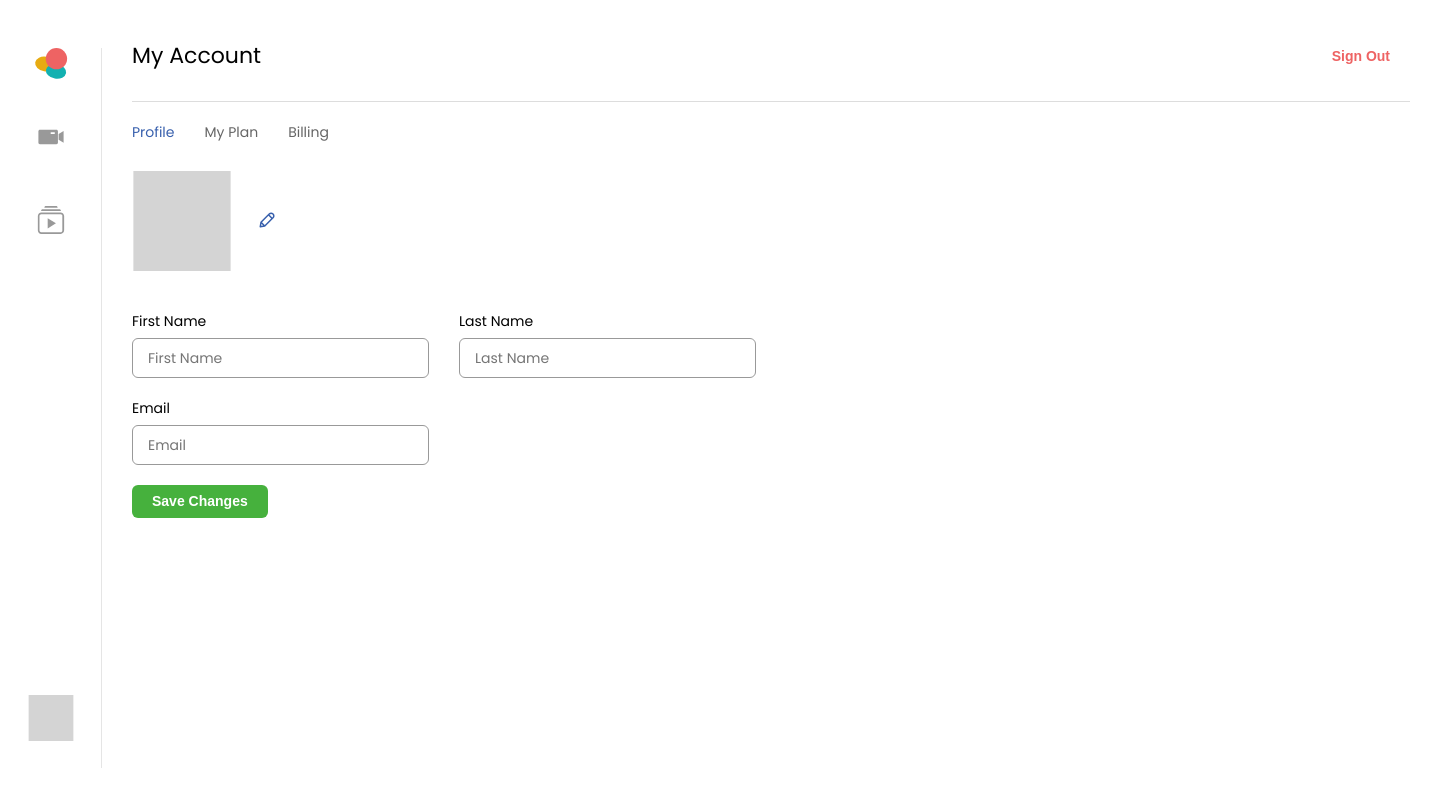
My Account › Desktop › User should be able to visit My plan
This screenshot has width=1440, height=800.
Step 1. Click the text "My Plan" → (232, 132), box 205,122 -> 259,142
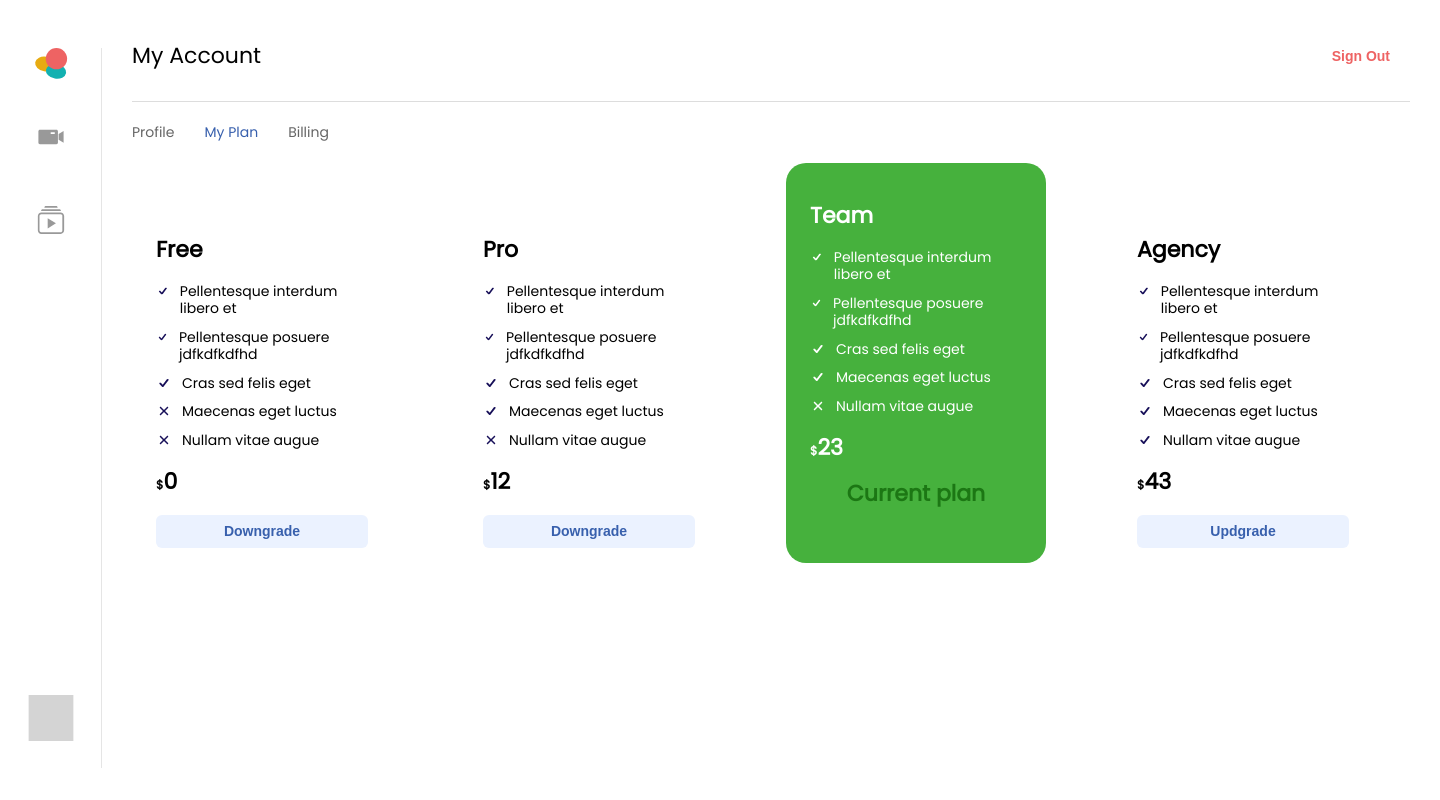
Expected: the text "Free" is shown, 156,234 -> 203,265
Expected: the text "Pro" is shown, 483,234 -> 518,265
Expected: the text "Team" is shown, 810,200 -> 873,231
